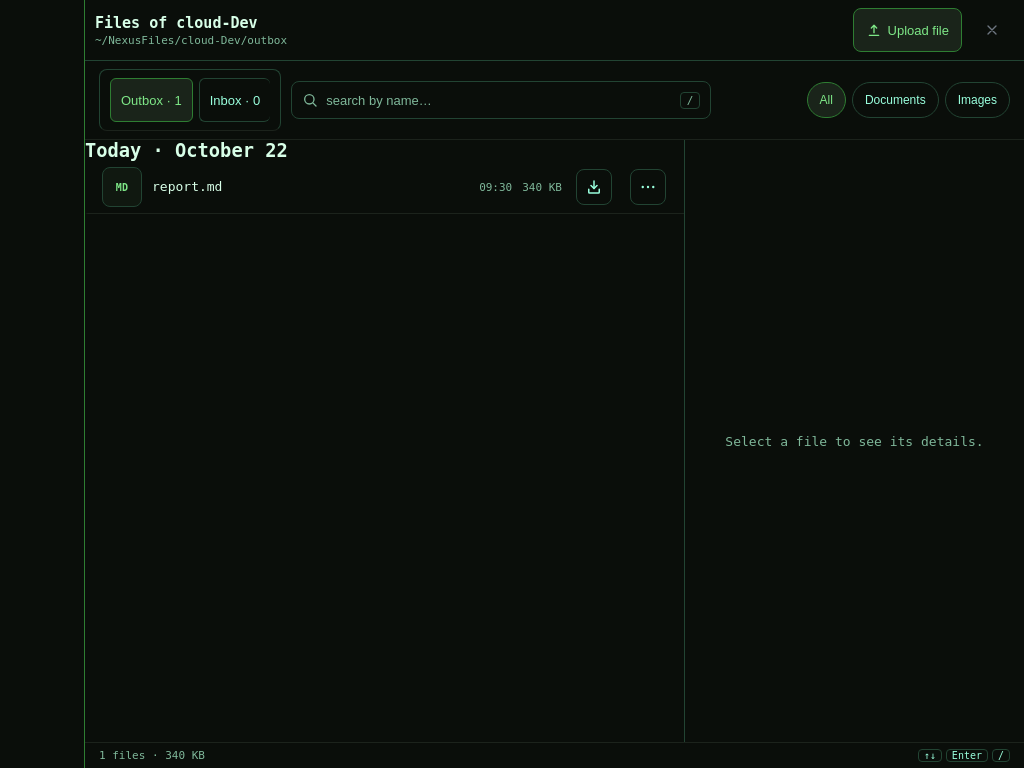
FilesPanel desktop — pannello dettaglio › «Copy full name» copia il nome ORIGINALE e lo dice
Click the text "report.md" at (187, 186), box [152,178,222,194]
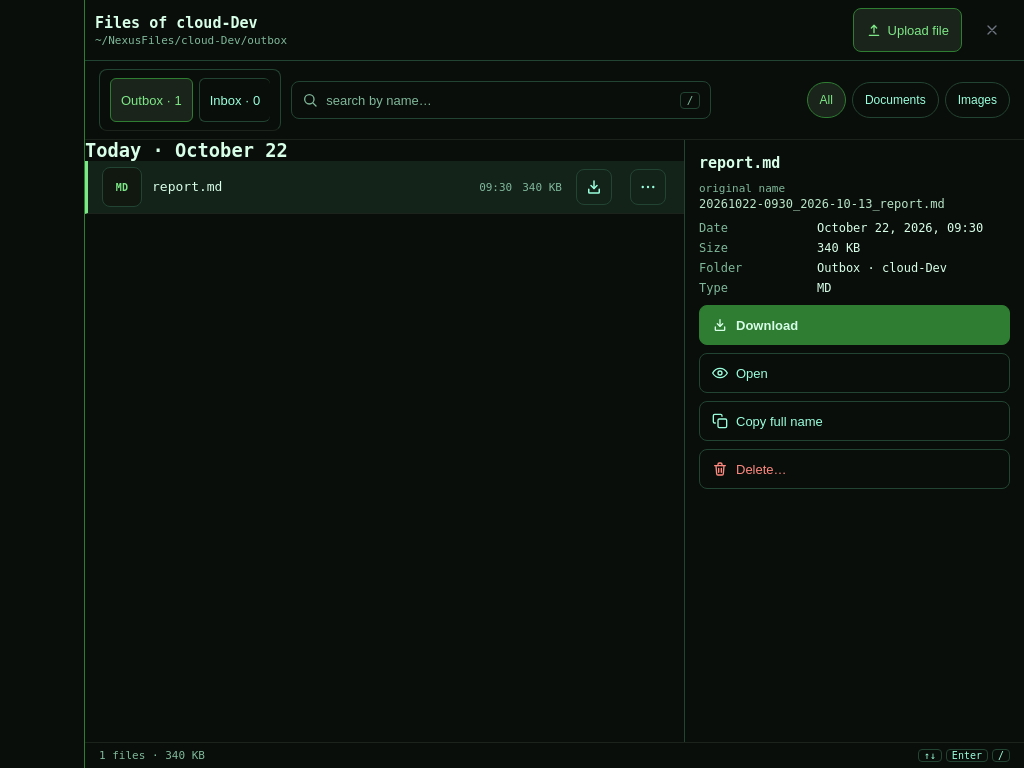
Click the button "Copy full name" at (779, 421), box [699,401,1010,441]
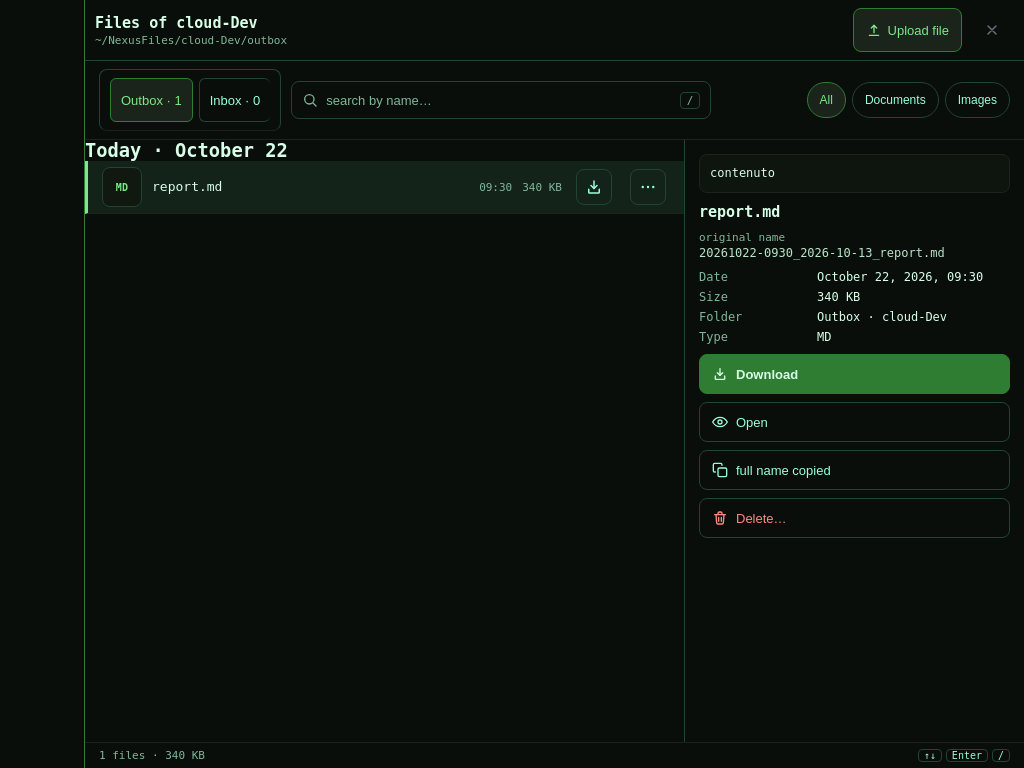
Result: the text "full name copied" is shown at [736,463,831,478]
